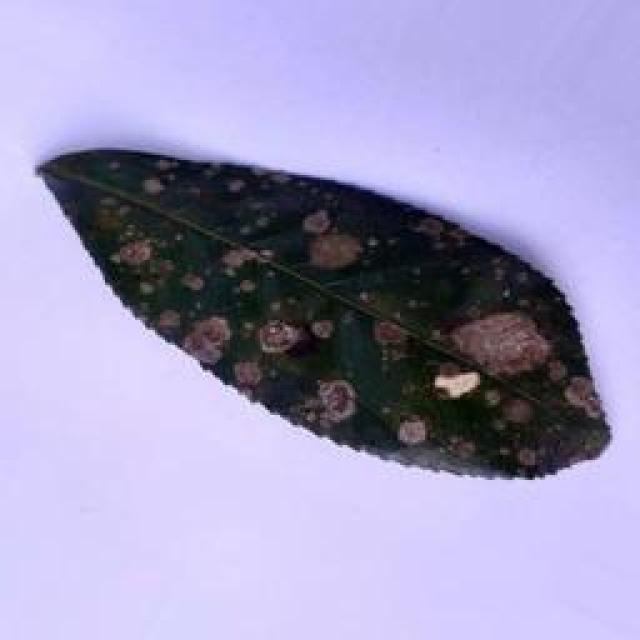Algal Leaf Spot: (34, 146, 610, 482)
